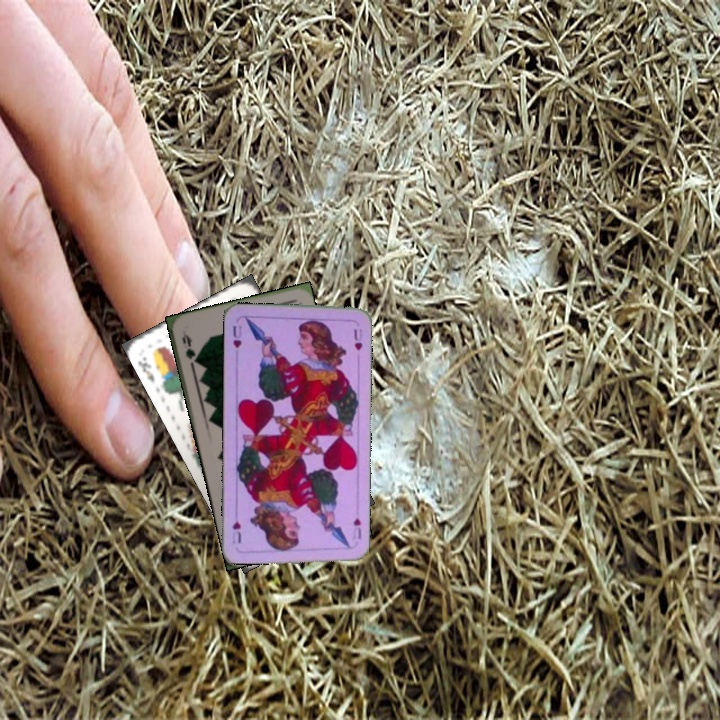EK: (134, 353, 157, 385)
G9: (178, 328, 200, 368)
HU: (229, 321, 244, 350), (349, 514, 364, 541)
